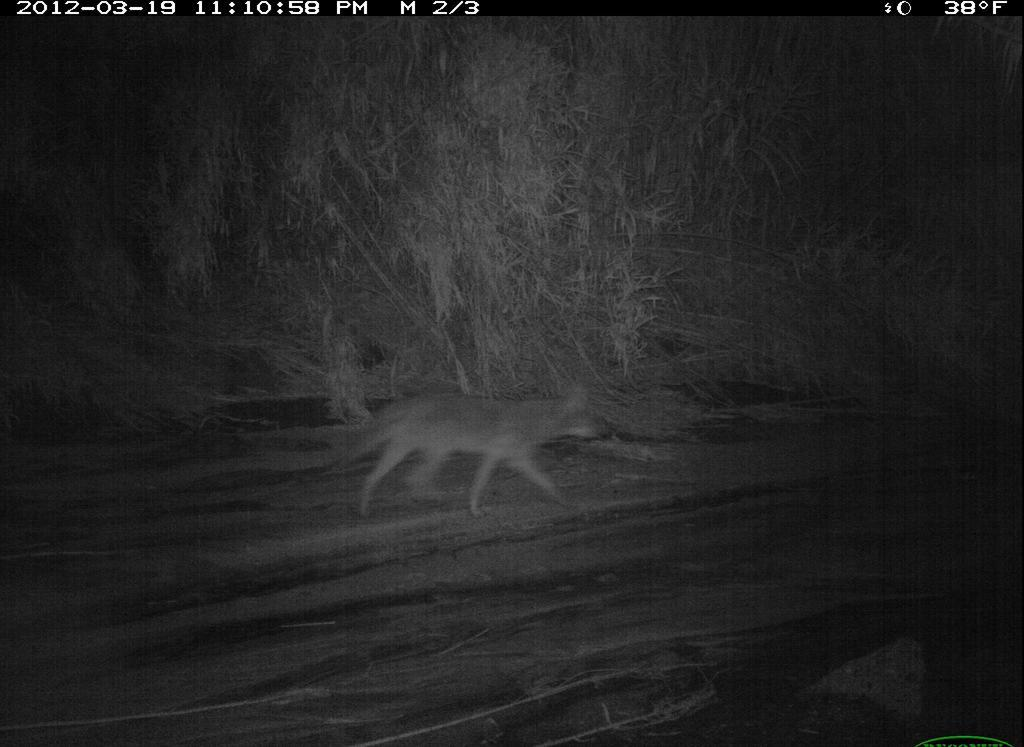coyote: (327, 383, 621, 515)
